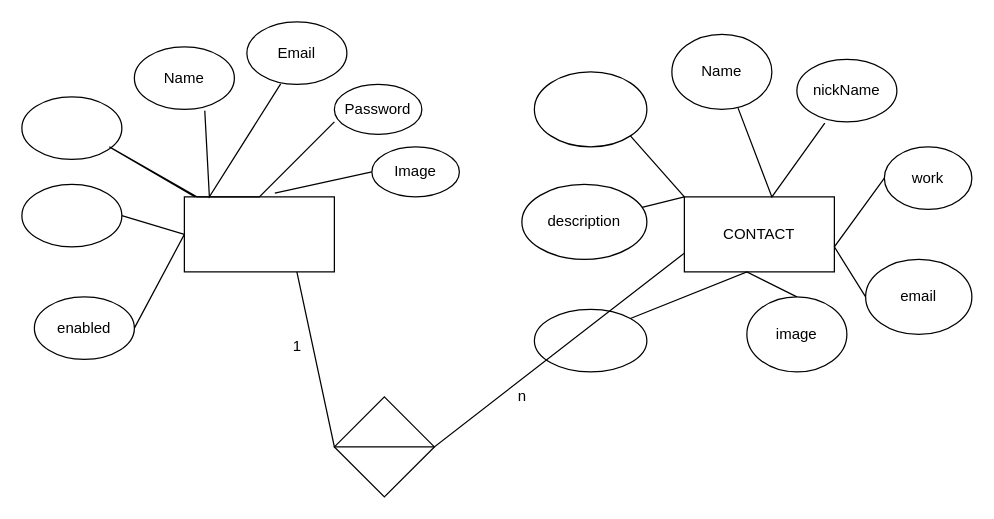
Image size: 994x519. Some labels were removed from this diagram. The shapes that lost their labels are listed below. From the top down, each one's box as (x1, y1, x2, y2) in pixels, then its label:
(21, 96, 122, 159): id
(533, 71, 647, 147): cid
(21, 183, 122, 247): role
(183, 196, 334, 272): USER
(533, 308, 647, 372): Phone
(333, 396, 434, 497): has
